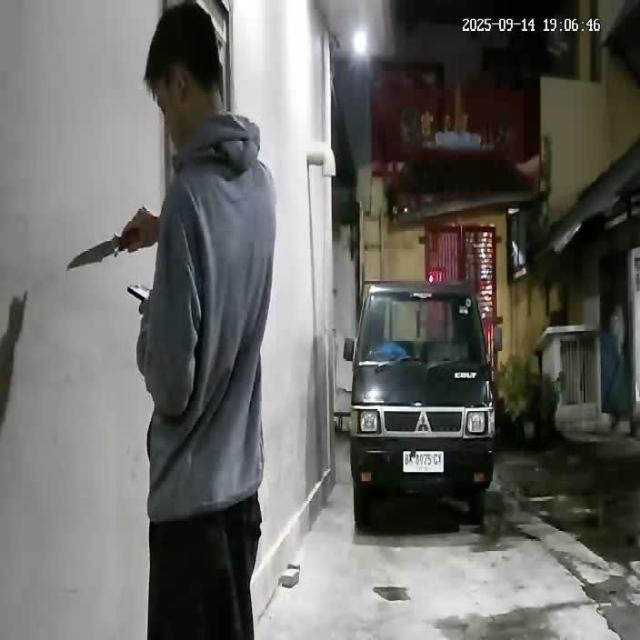senjata_tajam: (68, 232, 124, 272)
